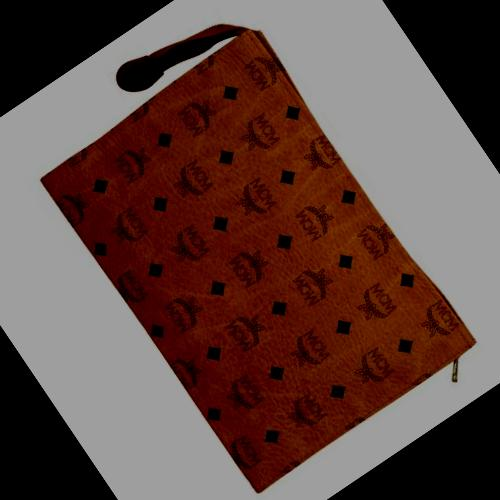MCM: (20, 4, 493, 500)
